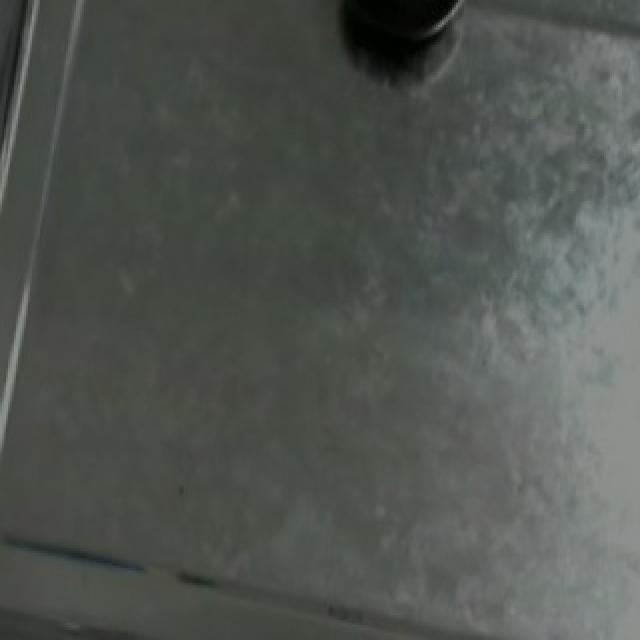Fruit: (330, 0, 488, 72)
